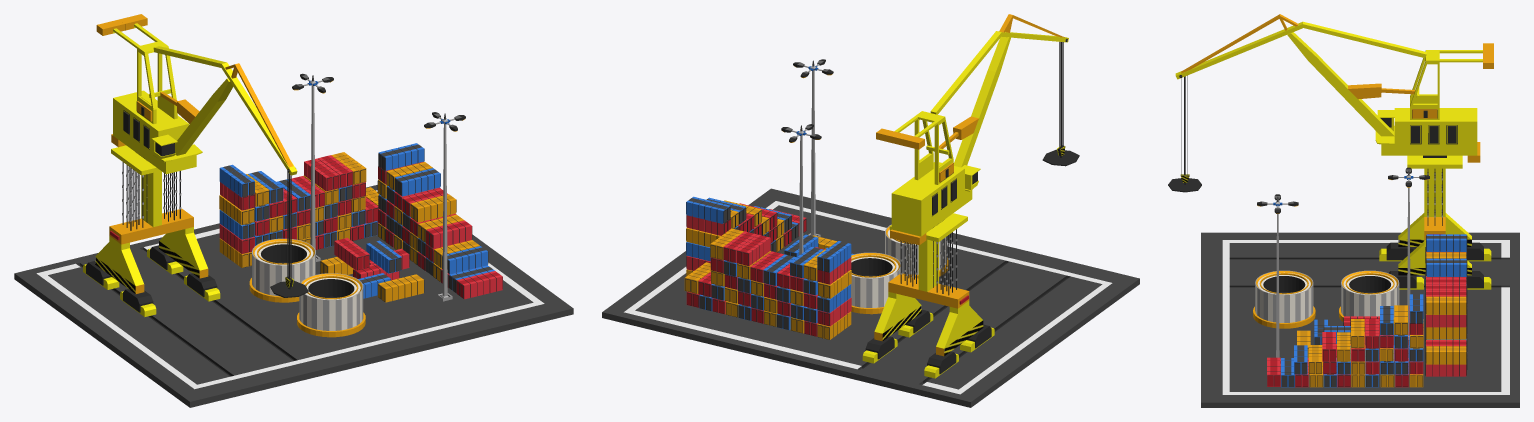
The model's file is Port.glb.
The picture shows the model from 3 angles, left to right: view 1: azimuth 30°, elevation 25°; view 2: azimuth 150°, elevation 25°; view 3: azimuth 270°, elevation 25°; orthographic projection. The views are drawn at different scales.
Visible parts, largest first — view 1: Chimney, Container.036, Crane.002, Crane.001, Building, Building.001, Light Pole.001, Light Pole, Crane, Crane.003; view 2: Chimney, Container.036, Crane.002, Crane.001, Building.001, Building, Light Pole.001, Light Pole, Crane.003, Crane; view 3: Chimney, Container.036, Crane.002, Crane.001, Building, Building.001, Light Pole.001, Light Pole, Crane, Crane.003.
Boxes of the visible parts, x1,y1,x2,y2 form: Chimney: (14, 185, 573, 407); Container.036: (219, 143, 502, 302); Crane.002: (96, 14, 297, 175); Crane.001: (83, 145, 220, 316); Building: (297, 273, 365, 337); Building.001: (249, 238, 315, 302); Light Pole.001: (424, 112, 465, 301); Light Pole: (292, 73, 333, 261); Crane: (270, 277, 308, 297); Crane.003: (287, 171, 291, 279); Chimney: (602, 188, 1139, 407); Container.036: (684, 196, 854, 339); Crane.002: (876, 14, 1068, 245); Crane.001: (862, 213, 994, 378); Building.001: (851, 252, 900, 314); Building: (885, 224, 948, 278); Light Pole.001: (793, 59, 833, 236); Light Pole: (781, 124, 821, 254); Crane.003: (1059, 42, 1063, 148); Crane: (1042, 145, 1079, 166); Chimney: (1201, 232, 1519, 407); Container.036: (1267, 234, 1467, 387); Crane.002: (1175, 14, 1493, 162); Crane.001: (1379, 155, 1491, 289); Building: (1253, 270, 1315, 328); Building.001: (1339, 270, 1399, 323); Light Pole.001: (1257, 194, 1298, 365); Light Pole: (1388, 167, 1429, 339); Crane: (1168, 174, 1201, 192); Crane.003: (1181, 75, 1187, 175).
Bounding box in the file's own units: 297 × 215 × 260.
Materials: 1 (1 with a texture image).
